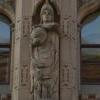Statue: (22, 3, 76, 93)
